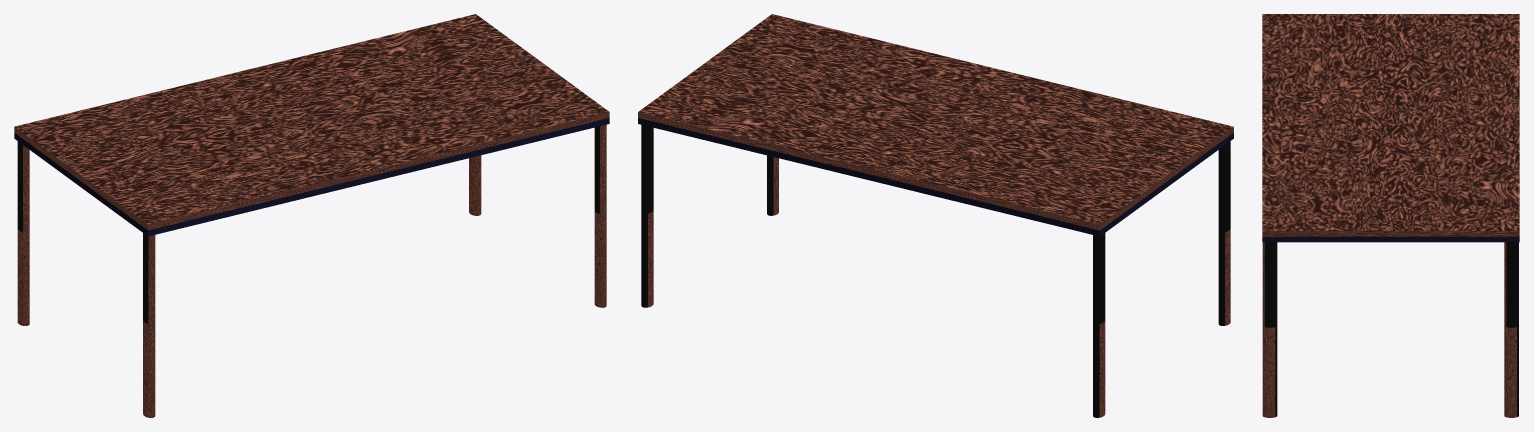
File: table.glb
3 views of the same model, side by side, from view 1: azimuth 30°, elevation 25°; view 2: azimuth 150°, elevation 25°; view 3: azimuth 270°, elevation 25° (orthographic). The views are drawn at different scales.
Visible parts, largest first — view 1: Table surface, Cylinder, Surface frame; view 2: Table surface, Cylinder, Surface frame; view 3: Table surface, Cylinder, Surface frame.
Boxes of the visible parts, x1,y1,x2,y2 form: Table surface: (14, 14, 609, 230); Cylinder: (17, 124, 606, 417); Surface frame: (14, 118, 609, 236); Table surface: (638, 14, 1233, 230); Cylinder: (641, 125, 1230, 417); Surface frame: (638, 118, 1233, 236); Table surface: (1262, 14, 1519, 236); Cylinder: (1262, 242, 1518, 417); Surface frame: (1262, 236, 1519, 242).
Bounding box in the file's own units: 2.47 × 0.9966 × 1.24.
Materials: 2 (1 with a texture image).
